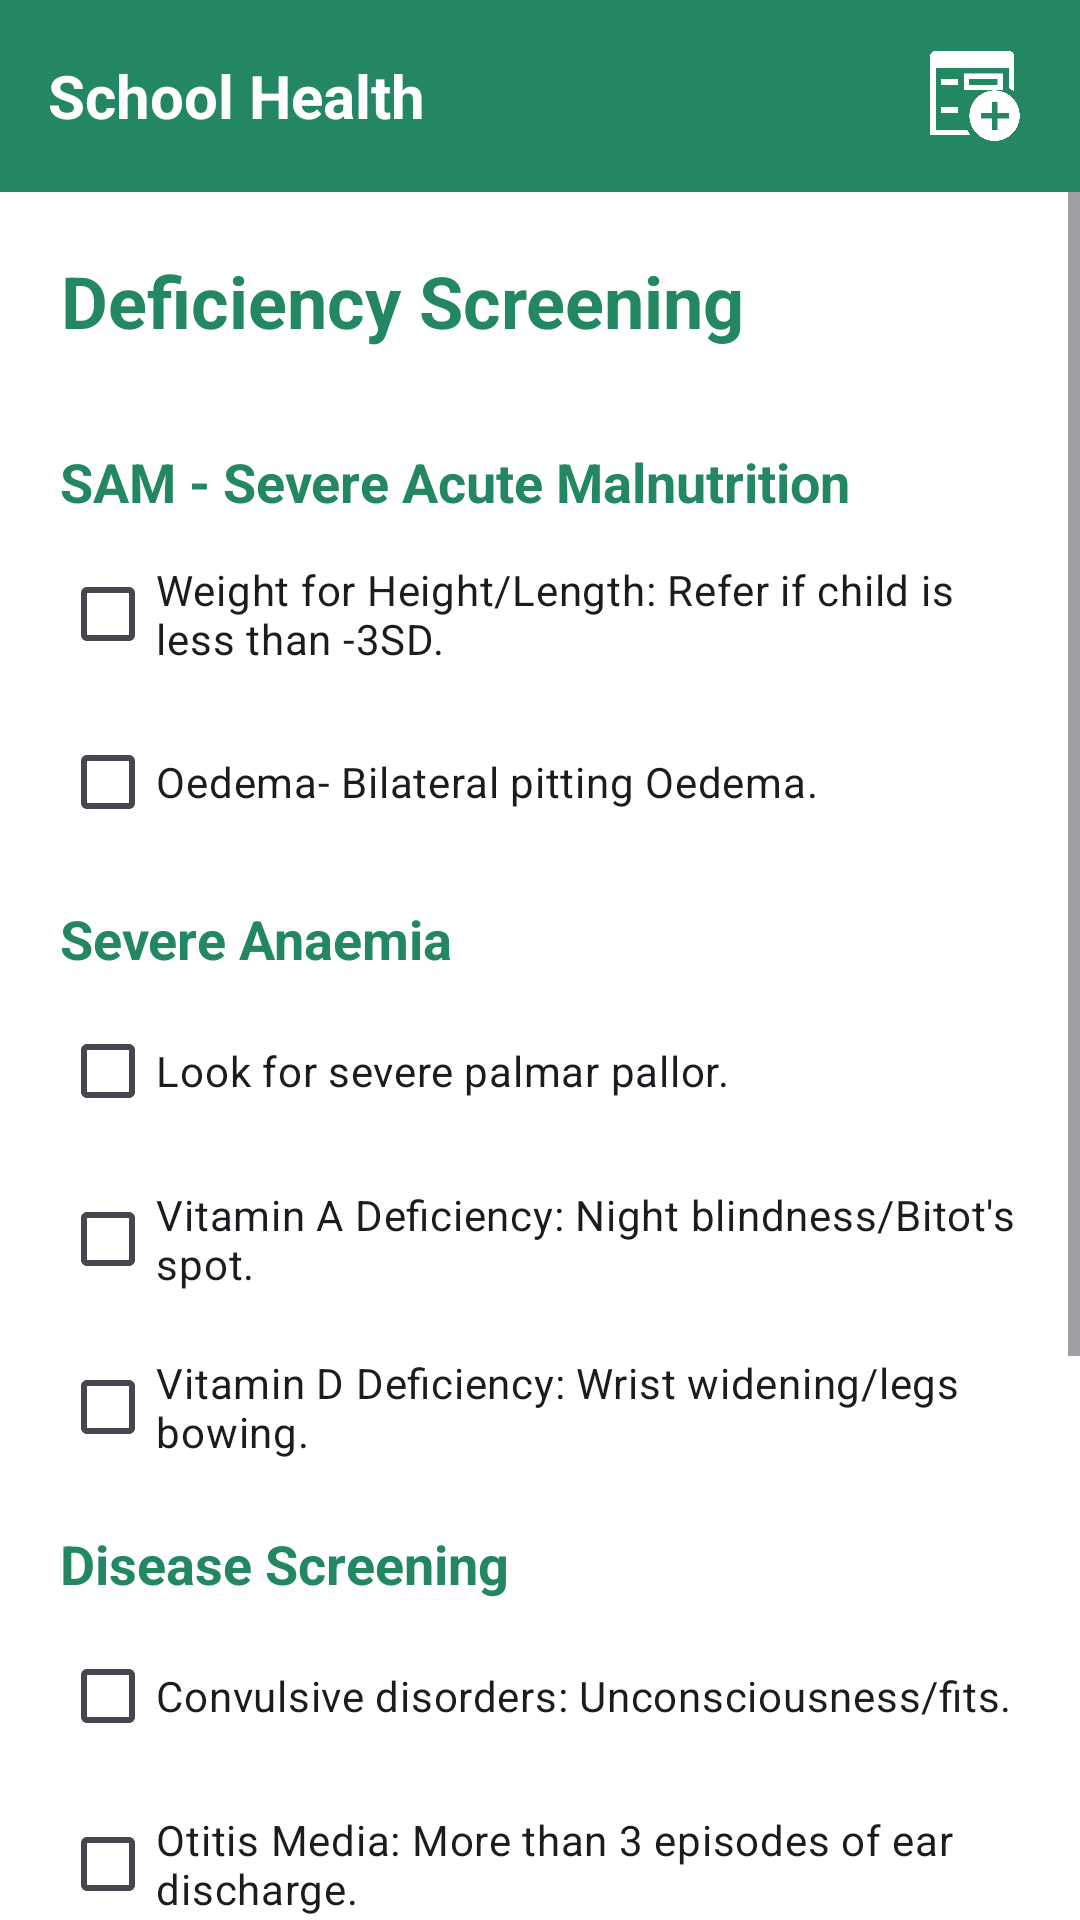

Where to tap for icons on this 1080 × 1920 app screen, as (x,y):
form: (975,96)
